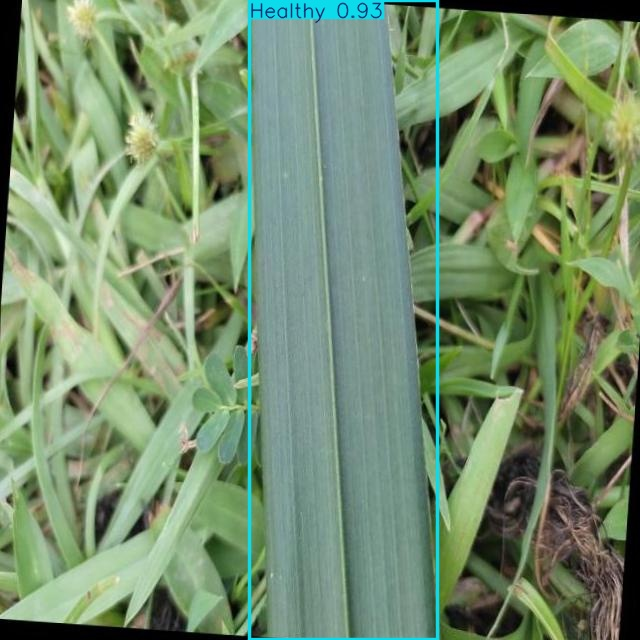Healthy: (249, 1, 438, 640)
